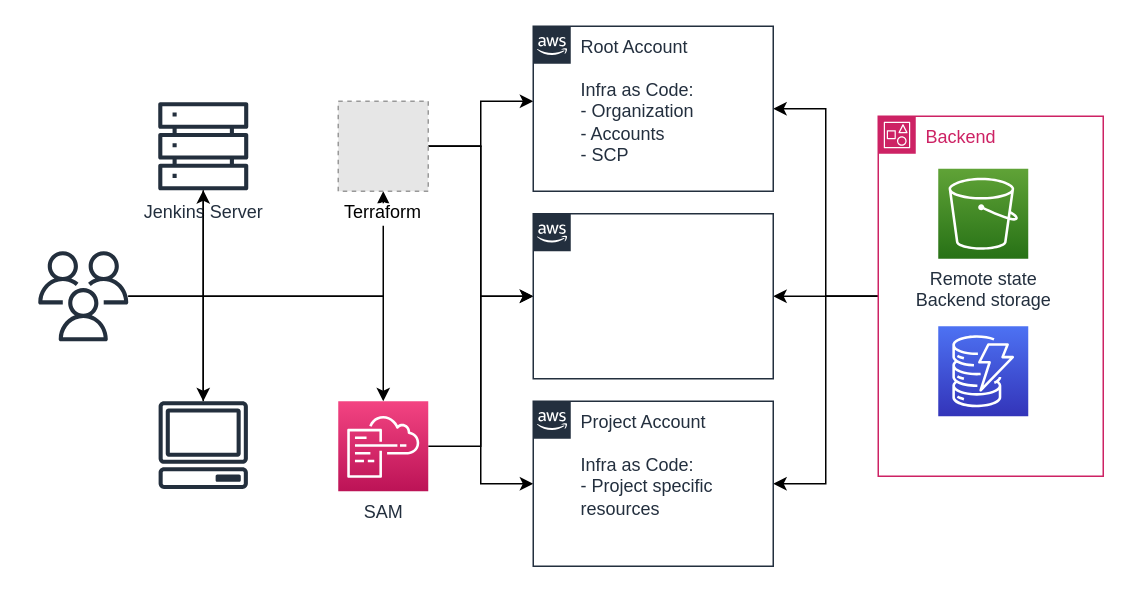
Image size: 1130x593. Some labels were removed from this diagram. Grey dashed boxes stand in for pictures. Each missing label, with the centre of its shape:
"DevOps Team" belongs at pixel 83 295.
"Local Machine" belongs at pixel 203 444.
"Shared Account Infra as Code: - Jenkins - Sonarqube - Network (Transit Gateway)" belongs at pixel 652 295.
"State Locking" belongs at pixel 982 370.
